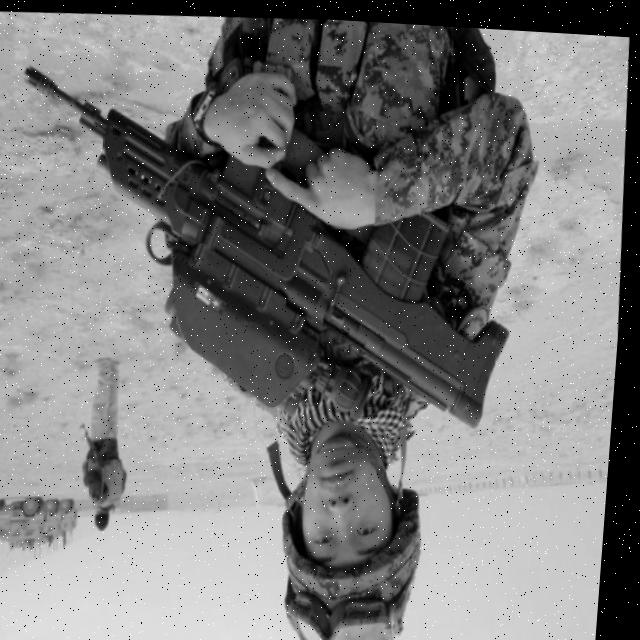firearm: (2, 33, 538, 440)
